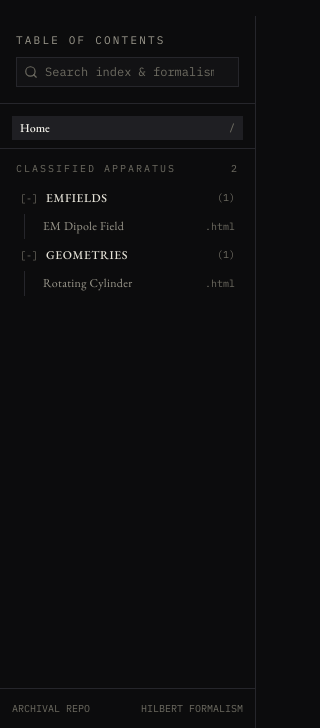
Sidebar component › filters widgets when user types in search input
Step 1. Type "cylinder" into the field with placeholder "Search index & formalisms..." → (128, 72), box left=16, top=56, right=239, bottom=86
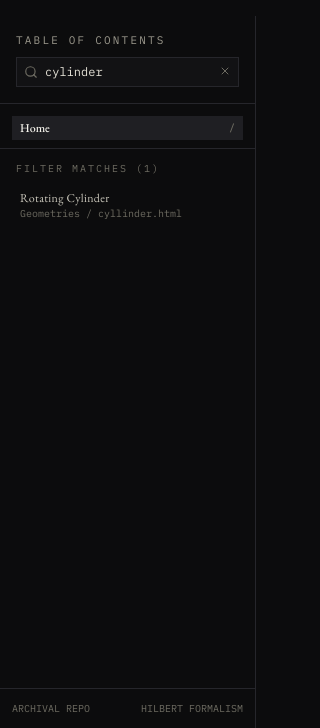
expect the text "Rotating Cylinder" is shown: met, box left=20, top=190, right=110, bottom=206
expect the text "Filter Matches (1)" is shown: met, box left=16, top=162, right=160, bottom=174
expect the link "EM Dipole Field" is gone: met
